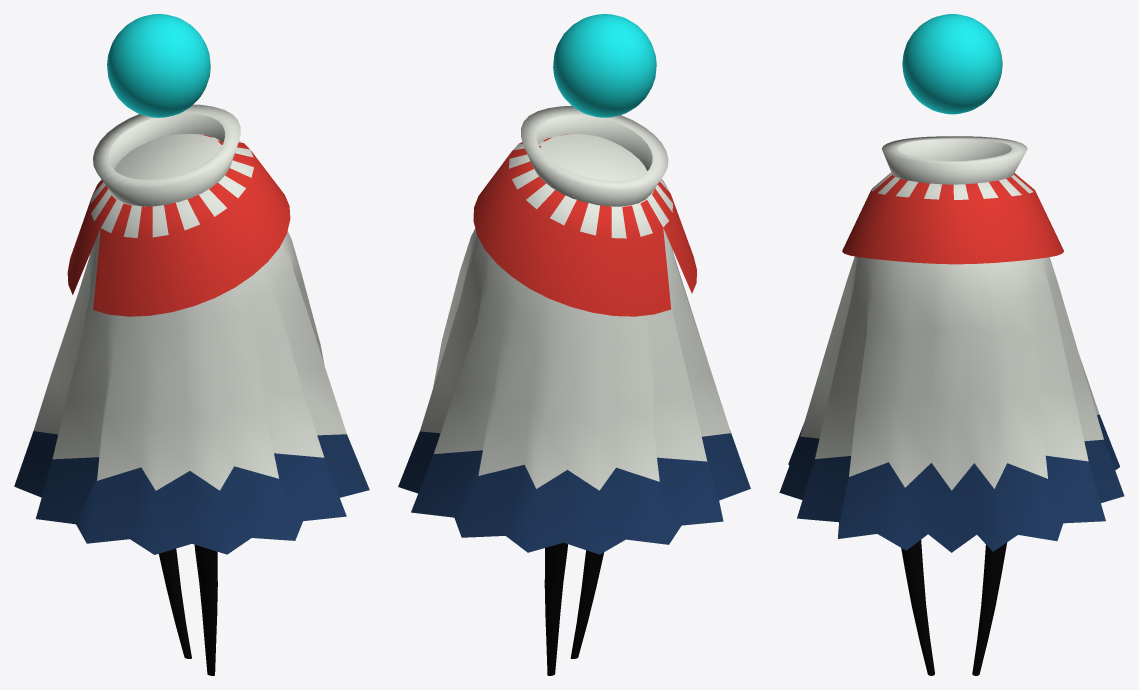
The model's file is Character model 2.fbx.
3 renders of one model, left to right at view 1: azimuth 30°, elevation 25°; view 2: azimuth 150°, elevation 25°; view 3: azimuth 270°, elevation 25°, orthographic. The views are drawn at different scales.
Parts seen in each view (by area): view 1: Cylinder, Cylinder.001, Sphere, Cylinder.003, Cylinder.008; view 2: Cylinder, Cylinder.001, Sphere, Cylinder.003, Cylinder.008; view 3: Cylinder, Cylinder.001, Sphere, Cylinder.003, Cylinder.008.
Boxes of the visible parts, x1,y1,x2,y2 form: Cylinder: (14,229,369,554); Cylinder.001: (67,134,290,316); Sphere: (107,14,210,117); Cylinder.003: (93,104,240,206); Cylinder.008: (159,545,217,675); Cylinder: (398,228,750,554); Cylinder.001: (473,134,696,316); Sphere: (553,14,656,117); Cylinder.003: (521,106,668,206); Cylinder.008: (544,542,603,675); Cylinder: (779,256,1124,552); Cylinder.001: (842,172,1063,264); Sphere: (902,14,1002,114); Cylinder.003: (882,136,1027,184); Cylinder.008: (901,540,1007,675).
Size of the model in its own units: 103 by 223 by 109.
